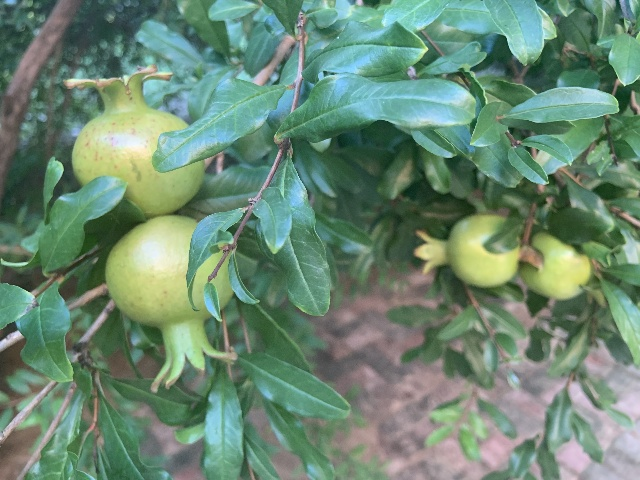mid-growth: (106, 214, 237, 393), (60, 62, 204, 216), (413, 213, 521, 287), (520, 232, 593, 300)
